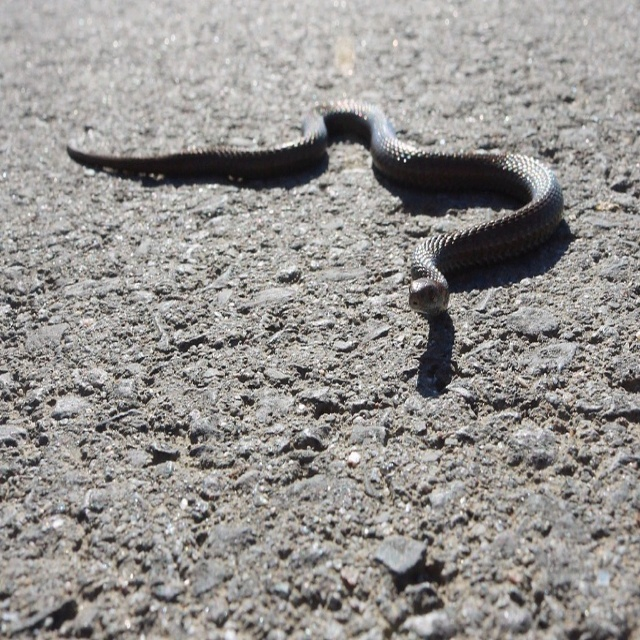Snake: (64, 99, 562, 315)
